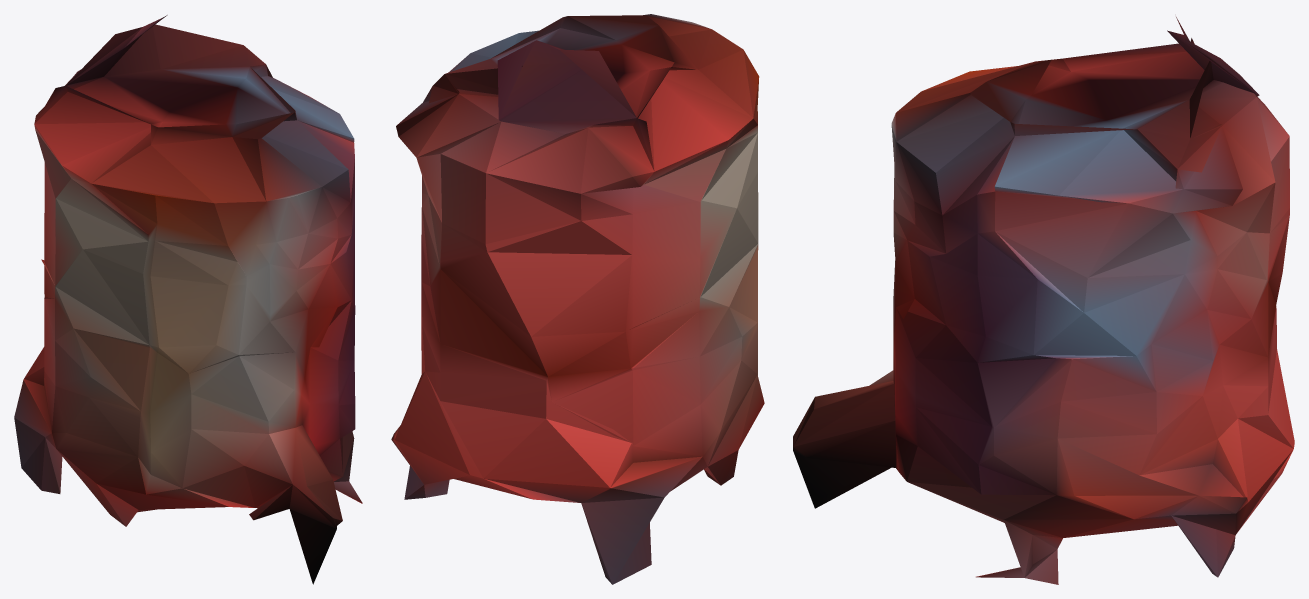
The picture shows the model from 3 angles, left to right: view 1: azimuth 30°, elevation 25°; view 2: azimuth 150°, elevation 25°; view 3: azimuth 270°, elevation 25°; orthographic projection. The views are drawn at different scales.
Size of the model in its own units: 2.43 by 4 by 3.7.
